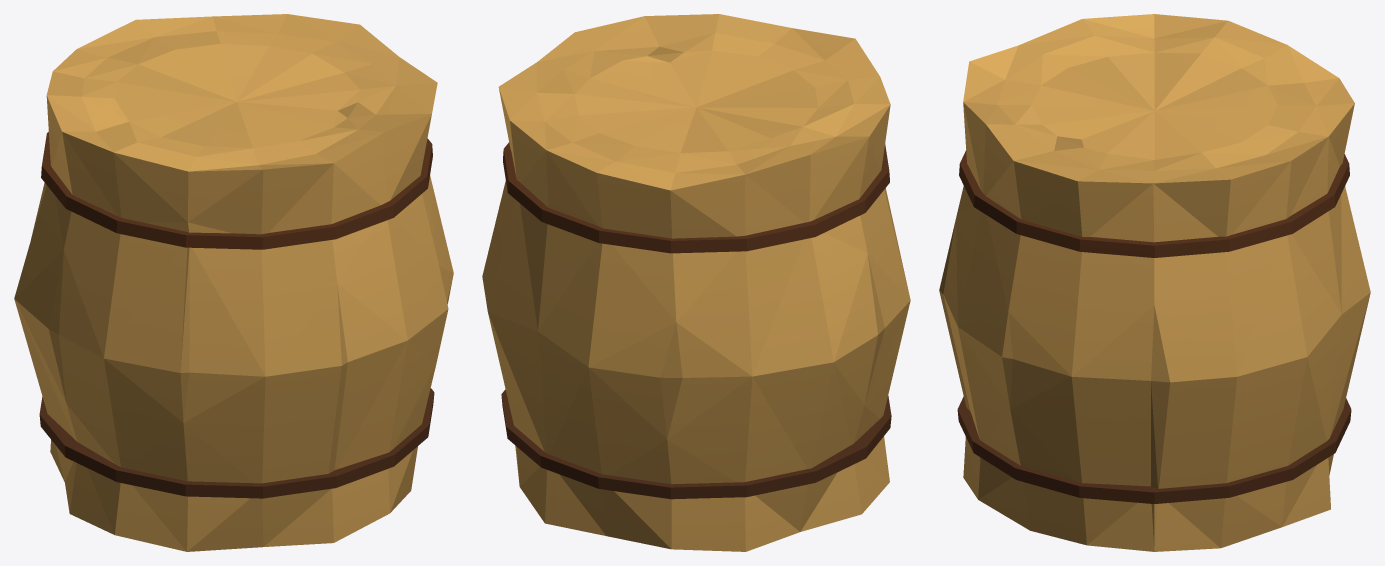
Rendered from Prop_Hay_Bale_Round_01.obj.
3 renders of one model, left to right at view 1: azimuth 30°, elevation 25°; view 2: azimuth 150°, elevation 25°; view 3: azimuth 270°, elevation 25°, orthographic.
Visible parts, largest first — view 1: Prop_Hay_Bale_Round_01; view 2: Prop_Hay_Bale_Round_01; view 3: Prop_Hay_Bale_Round_01.
Boxes of the visible parts, x1=… form: Prop_Hay_Bale_Round_01: x1=14, y1=14, x2=453, y2=551; Prop_Hay_Bale_Round_01: x1=482, y1=14, x2=910, y2=551; Prop_Hay_Bale_Round_01: x1=939, y1=14, x2=1370, y2=551.
Bounding box in the file's own units: 1.25 × 1.25 × 1.27.
1 material, 1 textured.
